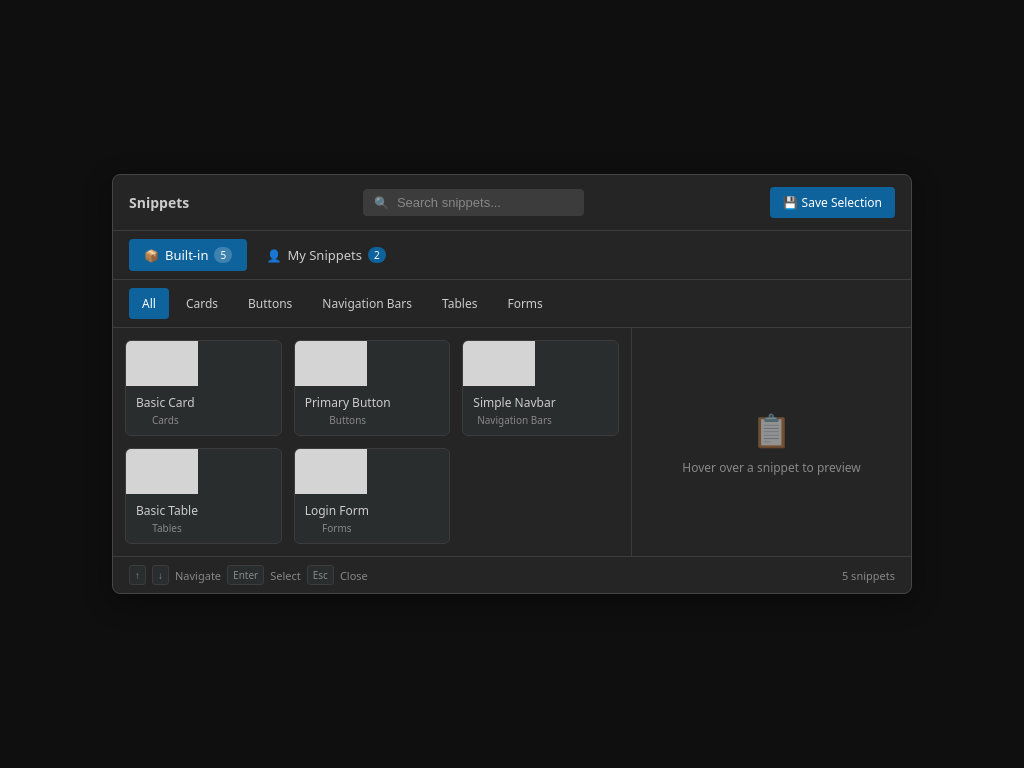
Test case: SnippetSelector.vue › User Snippets › should switch back to Built-in tab
// Go to My Snippets
Click the tab with class "tab-btn" showing "👤 My Snippets 2". click: (326,255)
box: [251,239,401,271]
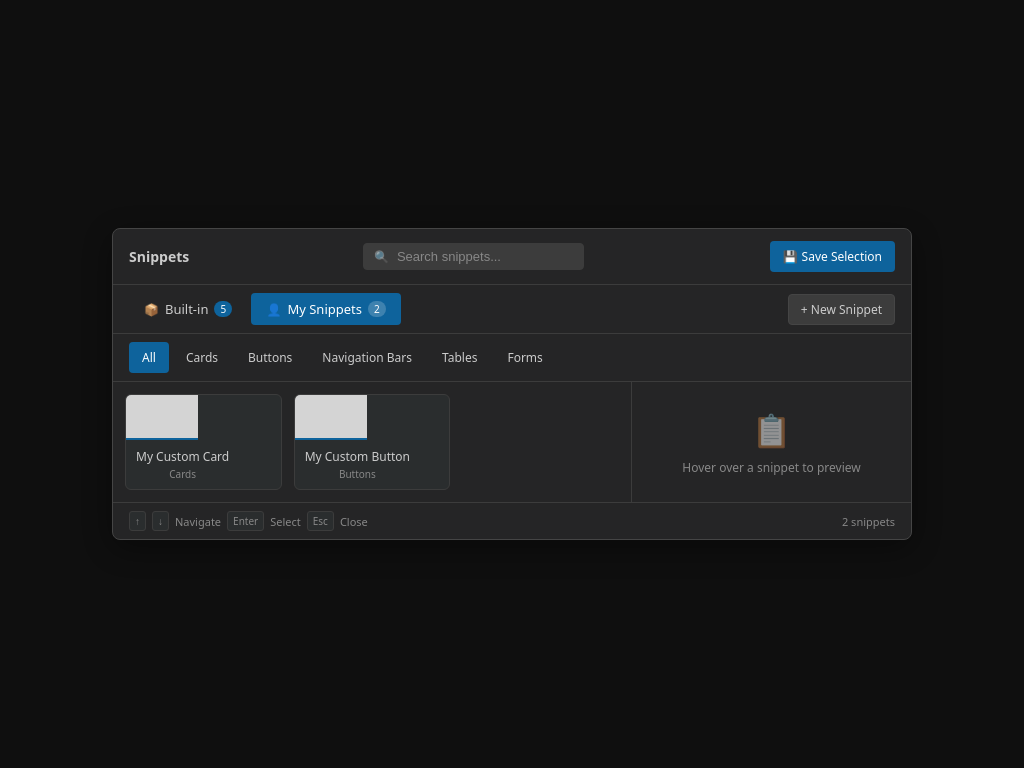
// Go back to Built-in
Click the tab with class "tab-btn" showing "📦 Built-in 5". click: (188,309)
box: [129,293,247,325]
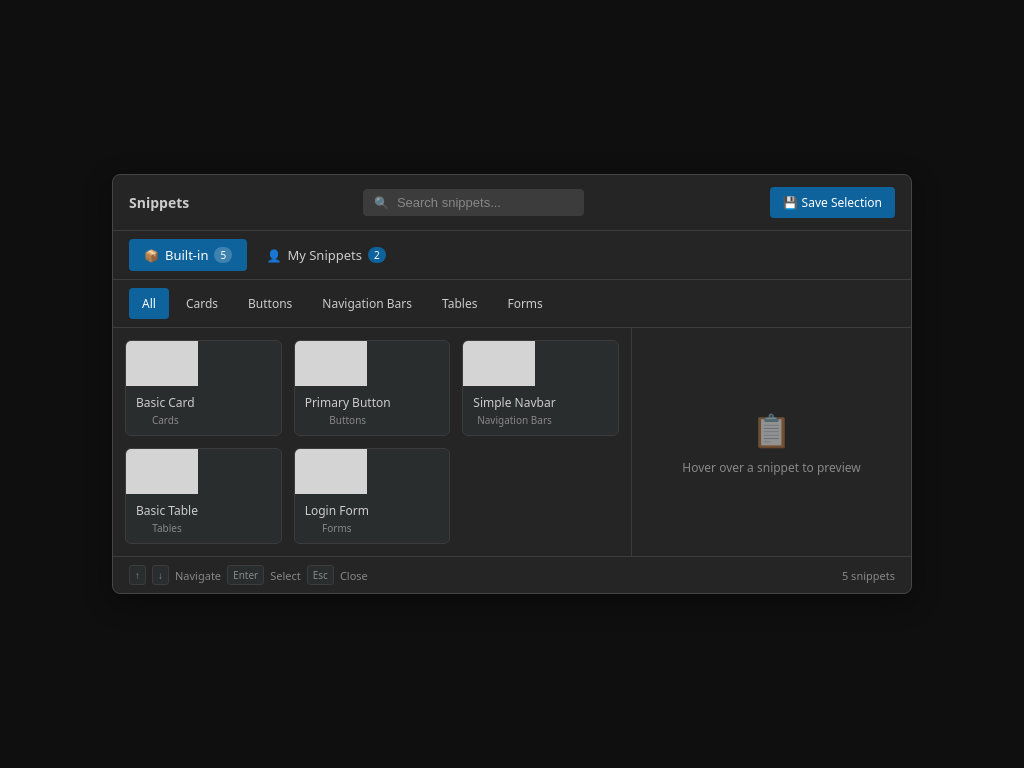
Check: the number of options with class "snippet-item" is 5, box [125,340,282,436]; [294,340,450,436]; [462,340,619,436]; [125,448,282,544]; [294,448,450,544]
